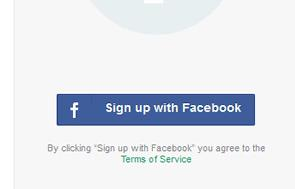button: (55, 93, 256, 127)
